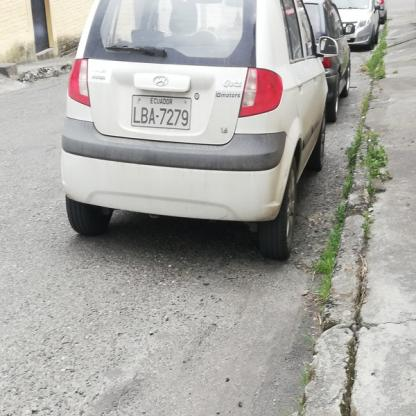Placa: (131, 90, 194, 131)
